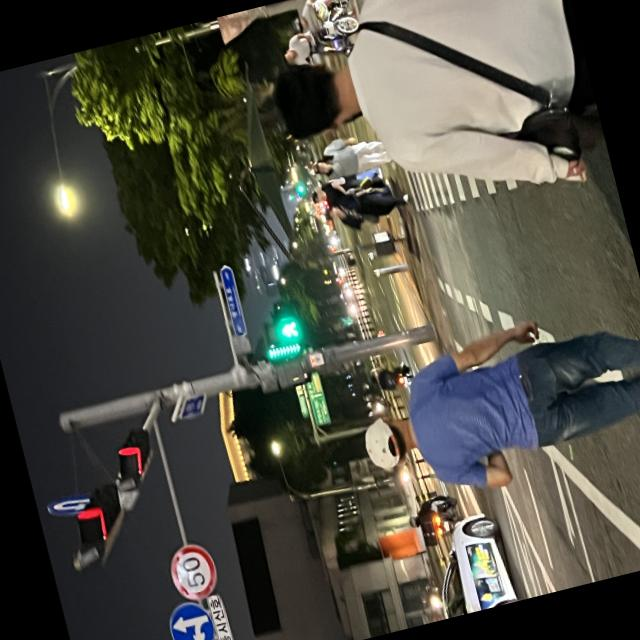green_light: (243, 280, 334, 371)
zebra: (354, 0, 612, 218)
